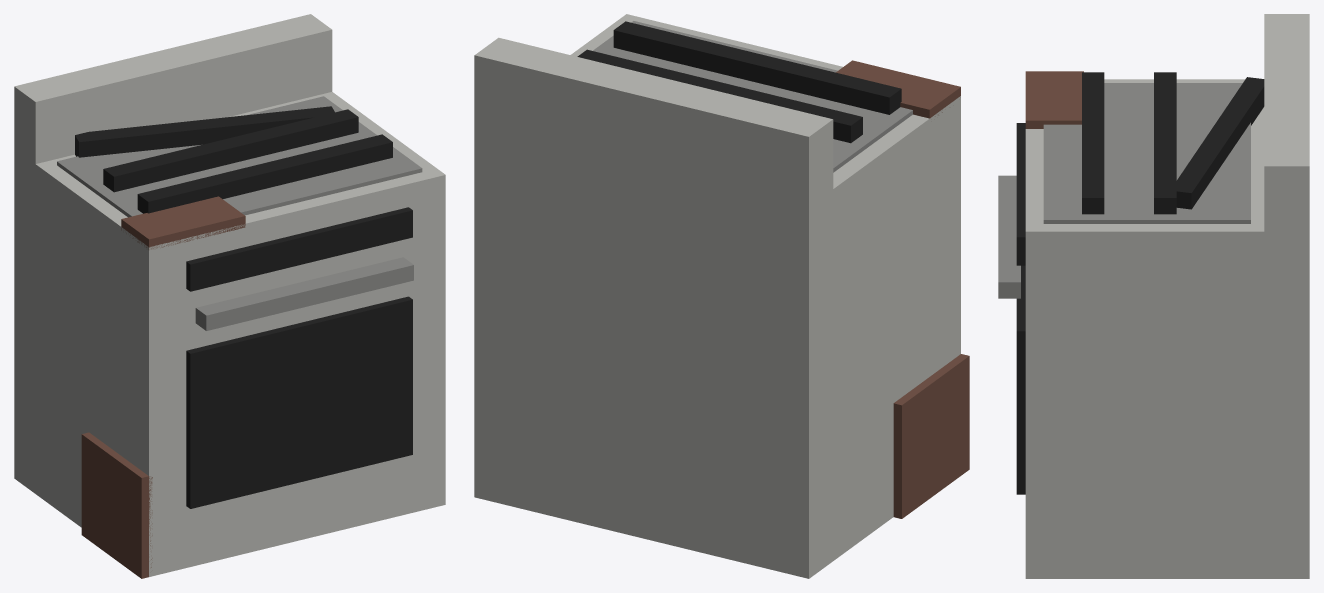
Rendered from junk_oven.obj.
3 renders of one model, left to right at view 1: azimuth 30°, elevation 25°; view 2: azimuth 150°, elevation 25°; view 3: azimuth 270°, elevation 25°, orthographic. The views are drawn at different scales.
Visible parts, largest first — view 1: junk_oven_0, junk_oven_6, junk_oven_1, junk_oven_2, junk_oven_10, junk_oven_8, junk_oven_4, junk_oven_3, junk_oven_7, junk_oven_5, junk_oven_9; view 2: junk_oven_0, junk_oven_1, junk_oven_10, junk_oven_3, junk_oven_2, junk_oven_4, junk_oven_9; view 3: junk_oven_0, junk_oven_2, junk_oven_1, junk_oven_5, junk_oven_4, junk_oven_3, junk_oven_9, junk_oven_7, junk_oven_6, junk_oven_8.
Part boxes in pixels (x1=…): junk_oven_0: x1=14, y1=92, x2=445, y2=576; junk_oven_6: x1=186, y1=296, x2=412, y2=508; junk_oven_1: x1=14, y1=14, x2=332, y2=163; junk_oven_2: x1=57, y1=96, x2=422, y2=217; junk_oven_10: x1=81, y1=432, x2=152, y2=578; junk_oven_8: x1=186, y1=207, x2=412, y2=291; junk_oven_4: x1=103, y1=109, x2=358, y2=192; junk_oven_3: x1=137, y1=134, x2=392, y2=213; junk_oven_7: x1=195, y1=257, x2=413, y2=330; junk_oven_5: x1=75, y1=106, x2=334, y2=157; junk_oven_9: x1=121, y1=196, x2=245, y2=249; junk_oven_0: x1=474, y1=14, x2=960, y2=578; junk_oven_1: x1=474, y1=37, x2=833, y2=206; junk_oven_10: x1=893, y1=354, x2=969, y2=518; junk_oven_3: x1=613, y1=21, x2=901, y2=114; junk_oven_2: x1=593, y1=21, x2=912, y2=172; junk_oven_4: x1=577, y1=49, x2=862, y2=143; junk_oven_9: x1=836, y1=60, x2=960, y2=118; junk_oven_0: x1=1025, y1=79, x2=1309, y2=578; junk_oven_2: x1=1043, y1=83, x2=1250, y2=223; junk_oven_1: x1=1264, y1=14, x2=1309, y2=231; junk_oven_5: x1=1170, y1=77, x2=1264, y2=209; junk_oven_4: x1=1154, y1=72, x2=1176, y2=214; junk_oven_3: x1=1082, y1=72, x2=1104, y2=214; junk_oven_9: x1=1025, y1=71, x2=1083, y2=128; junk_oven_7: x1=998, y1=175, x2=1020, y2=298; junk_oven_6: x1=1016, y1=265, x2=1025, y2=494; junk_oven_8: x1=1016, y1=123, x2=1025, y2=265.
Bounding box in the file's own units: 0.82 × 1.01 × 0.69.
